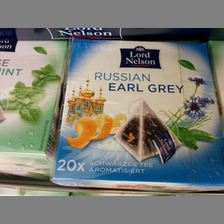tea: (50, 36, 224, 191), (1, 37, 65, 183)
